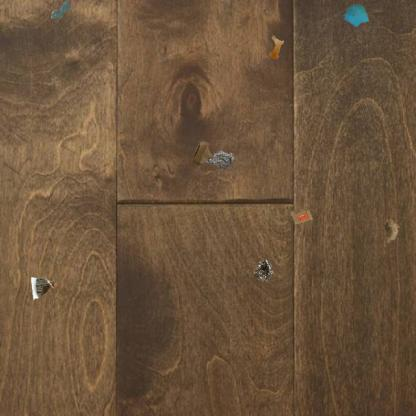dirty: (342, 2, 370, 29), (205, 148, 236, 172), (29, 276, 58, 300), (190, 140, 214, 166), (251, 257, 275, 283), (382, 217, 402, 245), (288, 208, 314, 227)
liquid: (267, 34, 285, 60), (50, 0, 71, 19)
